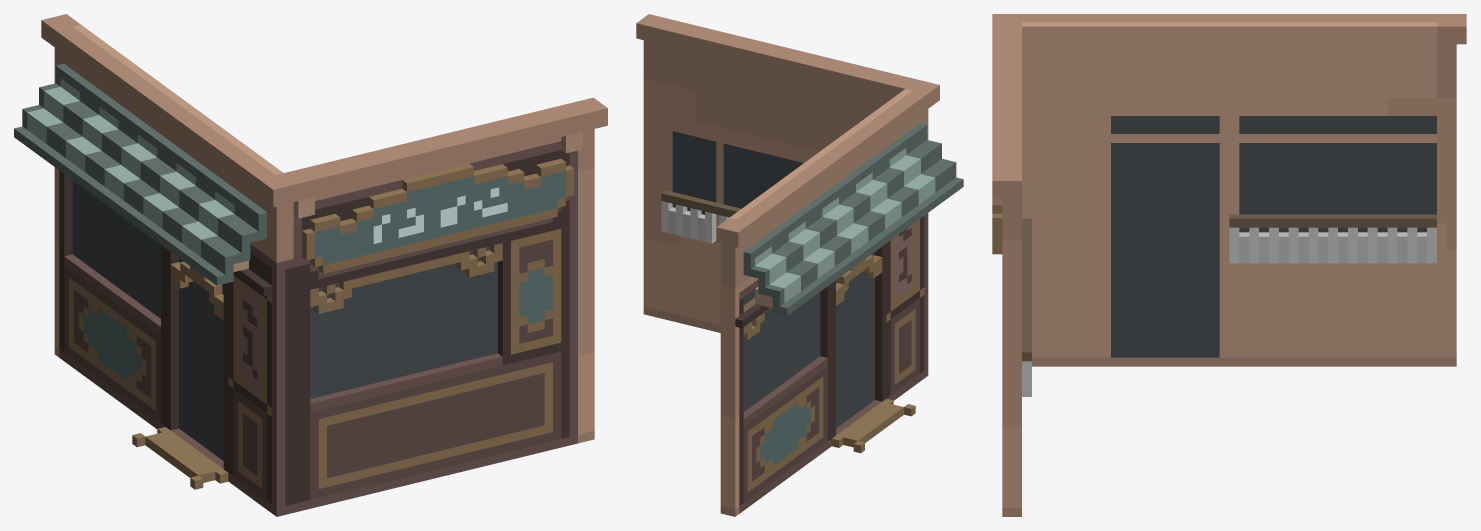
The model's file is Corner Cafe-14.obj.
3 views of the same model, side by side, from view 1: azimuth 30°, elevation 25°; view 2: azimuth 150°, elevation 25°; view 3: azimuth 270°, elevation 25° (orthographic). The views are drawn at different scales.
Bounding box in the file's own units: 4.5 × 3.8 × 4.8.
1 material, 1 textured.
